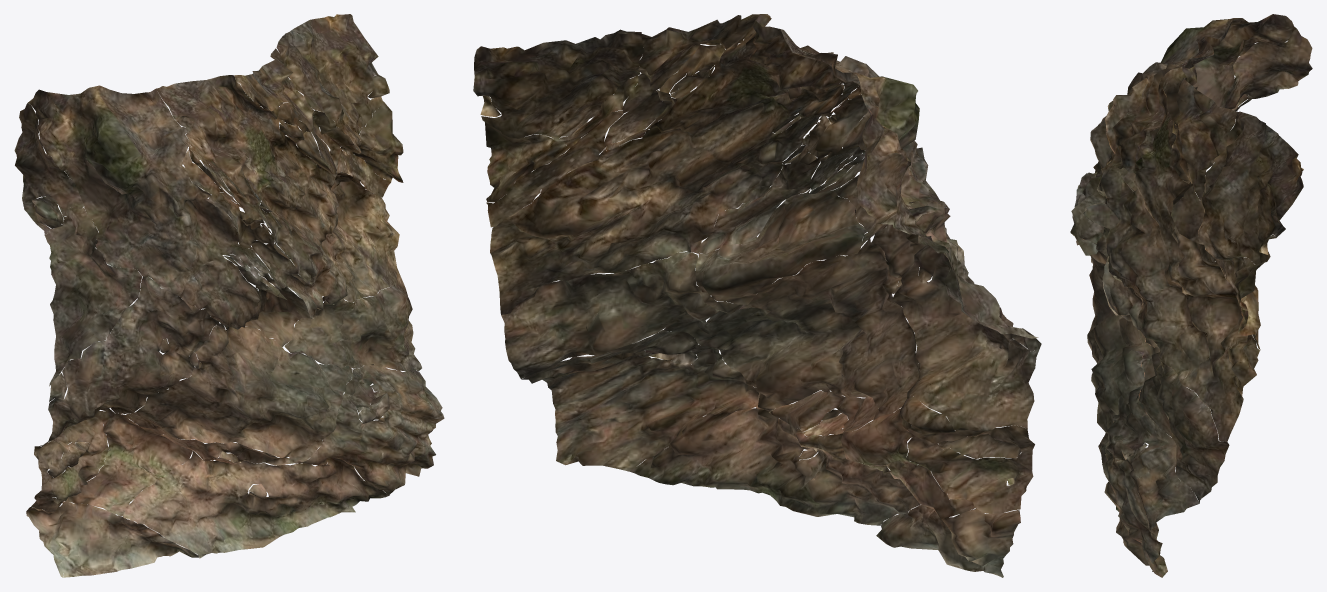
File: mountainside-optimized.glb
The picture shows the model from 3 angles, left to right: view 1: azimuth 30°, elevation 25°; view 2: azimuth 150°, elevation 25°; view 3: azimuth 270°, elevation 25°; orthographic projection. The views are drawn at different scales.
Parts seen in each view (by area): view 1: mountainside; view 2: mountainside; view 3: mountainside.
Part boxes in pixels (x1,y1,x2,y2): mountainside: (14, 14, 444, 577); mountainside: (473, 14, 1041, 577); mountainside: (1070, 14, 1312, 577).
Size of the model in its own units: 10.21 by 10.52 by 5.28.
Materials: 1 (1 with a texture image).
